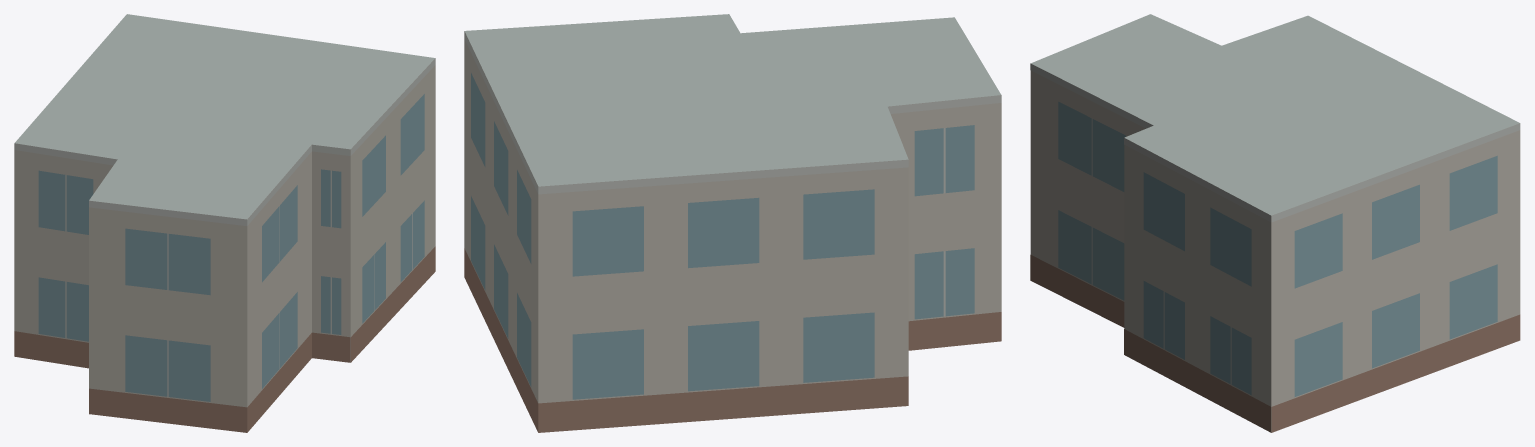
Rendered from survey-upis-32638916.glb.
3 renders of one model, left to right at view 1: azimuth 30°, elevation 25°; view 2: azimuth 150°, elevation 25°; view 3: azimuth 270°, elevation 25°, orthographic. The views are drawn at different scales.
Visible parts, largest first — view 1: survey-upis-32638916.tmp; view 2: survey-upis-32638916.tmp; view 3: survey-upis-32638916.tmp.
Part boxes in pixels (x1=…): survey-upis-32638916.tmp: x1=14, y1=14, x2=435, y2=432; survey-upis-32638916.tmp: x1=464, y1=14, x2=1001, y2=432; survey-upis-32638916.tmp: x1=1030, y1=14, x2=1520, y2=432.
Size of the model in its own units: 15.34 by 7.7 by 15.74.
